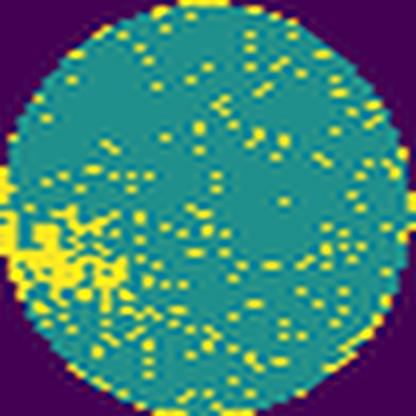Loc: (0, 205, 127, 311)
